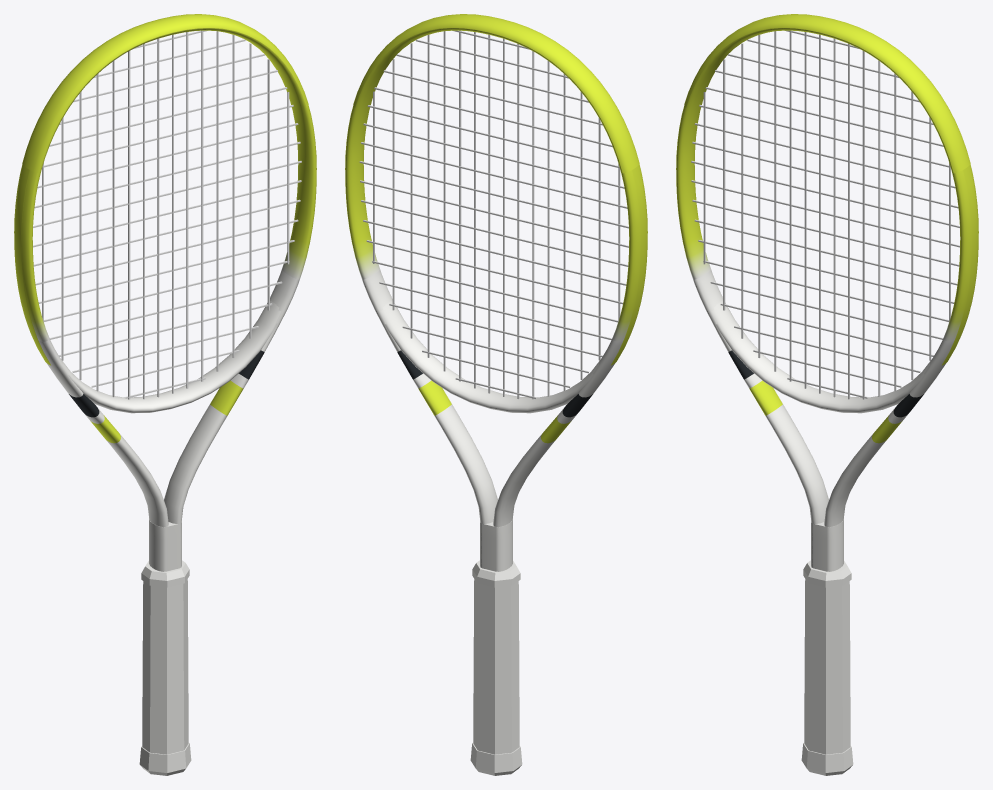
File: tecnifibre-fire-260-os-2026.glb
The picture shows the model from 3 angles, left to right: view 1: azimuth 30°, elevation 25°; view 2: azimuth 150°, elevation 25°; view 3: azimuth 330°, elevation 25°; orthographic projection.
Parts seen in each view (by area): view 1: frame, strings_mains, strings_crosses, grip, bumper, grommets, butt_cap, collar; view 2: frame, strings_mains, strings_crosses, grip, bumper, grommets, butt_cap, collar; view 3: frame, strings_mains, strings_crosses, grip, bumper, grommets, butt_cap, collar.
Part boxes in pixels (x1,y1,x2,y2): frame: (14, 28, 316, 571); strings_mains: (42, 30, 289, 399); strings_crosses: (33, 30, 301, 398); grip: (142, 579, 188, 754); bumper: (22, 14, 308, 173); grommets: (15, 165, 50, 365); butt_cap: (139, 743, 191, 775); collar: (141, 560, 189, 587); frame: (345, 28, 647, 571); strings_mains: (373, 30, 620, 399); strings_crosses: (359, 30, 628, 398); grip: (473, 579, 519, 754); bumper: (353, 14, 639, 173); grommets: (611, 165, 646, 365); butt_cap: (470, 743, 522, 775); collar: (472, 560, 520, 587); frame: (676, 28, 978, 571); strings_mains: (703, 30, 950, 399); strings_crosses: (691, 30, 959, 398); grip: (804, 579, 850, 754); bumper: (684, 14, 970, 173); grommets: (942, 165, 977, 365); butt_cap: (801, 743, 853, 775); collar: (803, 560, 851, 587).
Size of the model in its own units: 0.2848 by 0.6861 by 0.0378.
